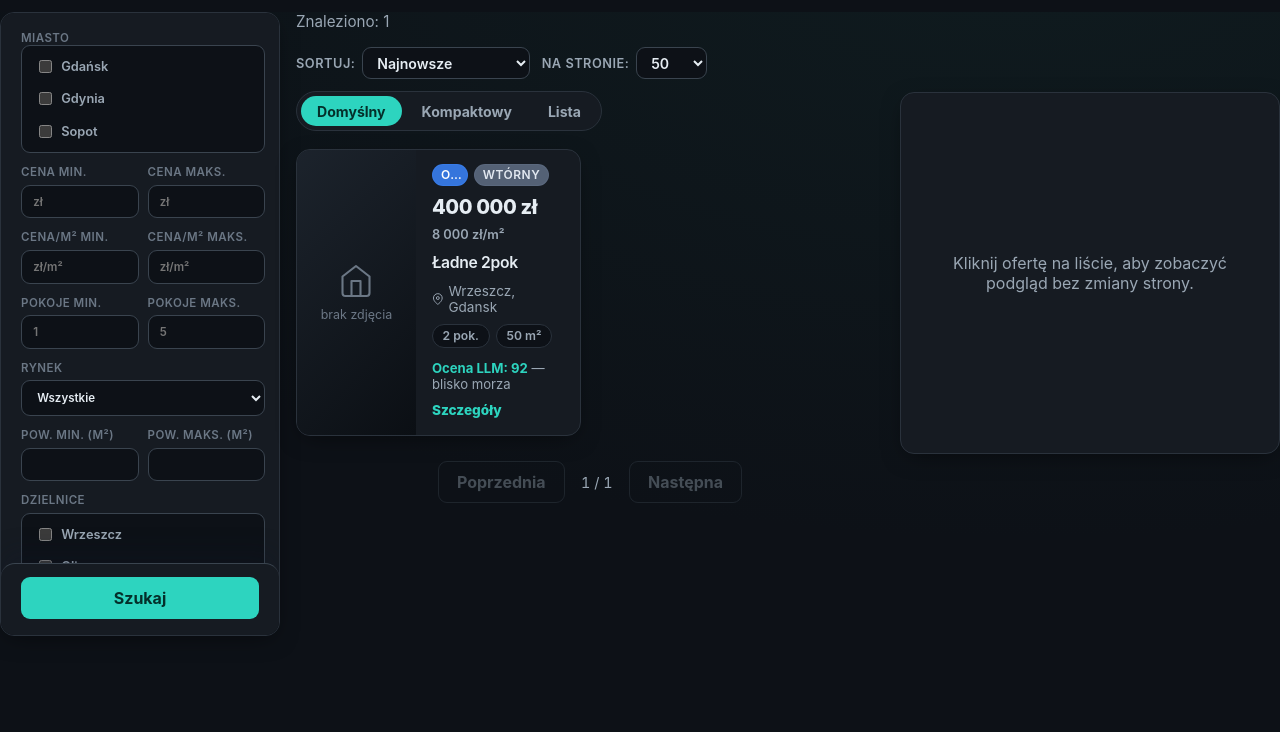
ListingsPage › switches views: default, compact, and list
Expected: the heading "Ładne 2pok" is shown, [432,253,518,272]
Step 1. Click the button "Lista" → point(564, 111), box [532,96,597,126]
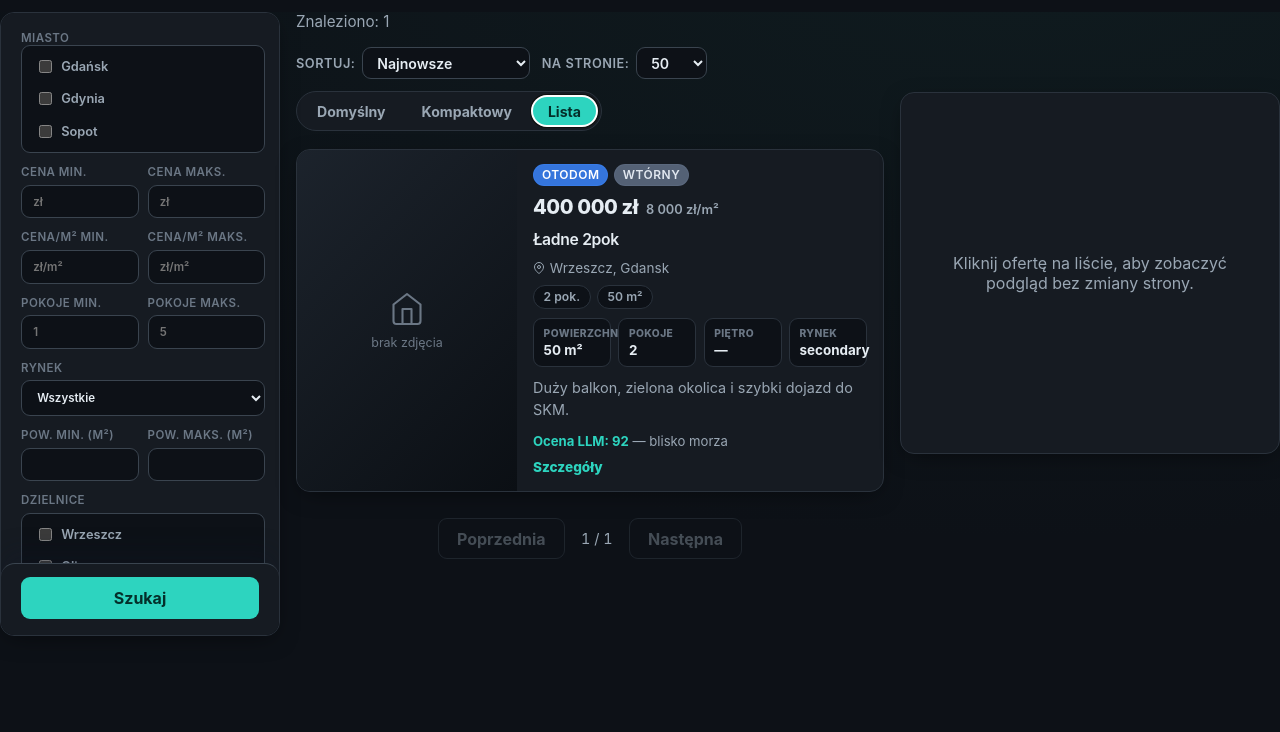
Result: the element with class "listings-grid--list" is shown at [296,149,884,492]
Result: the text "Duży balkon, zielona okolica i szybki dojazd do SKM." is shown at [533,377,867,420]
Step 2. Click the button "Kompaktowy" → point(467, 111), box [406,96,528,126]
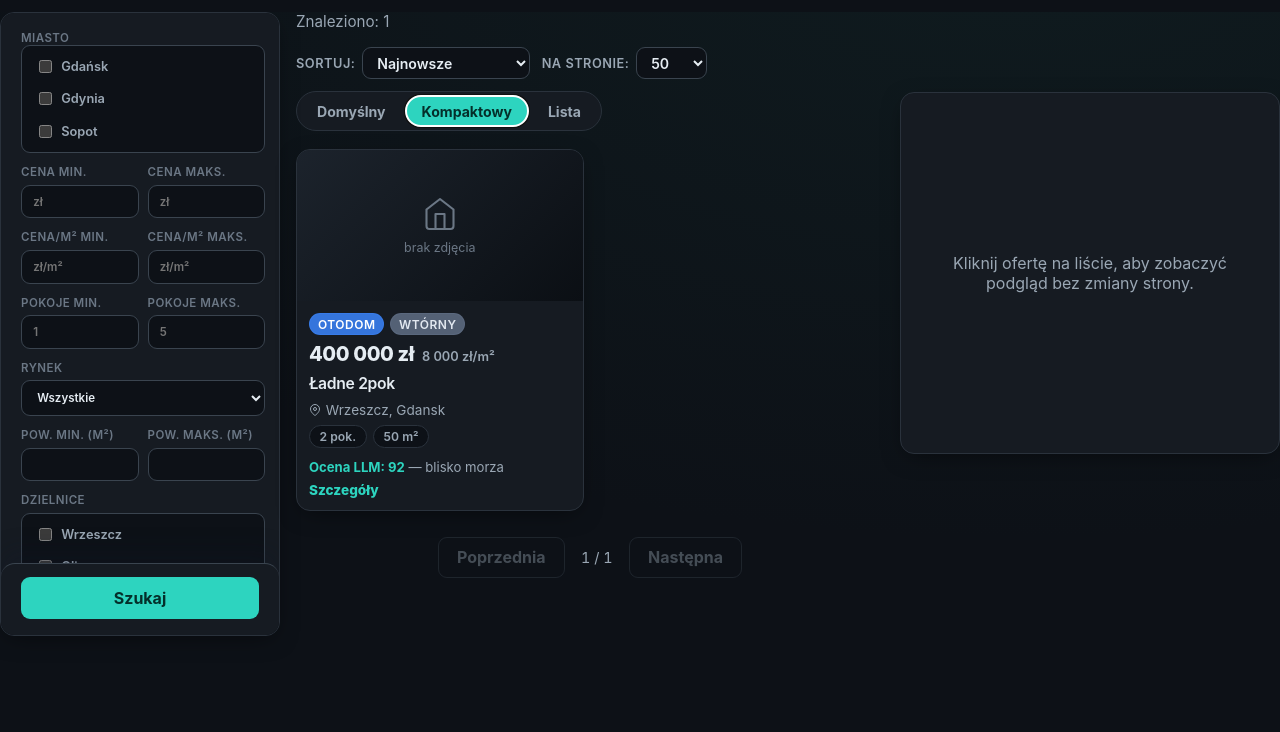
Result: the button with class "listing-card--compact" is shown at [296,149,584,511]
